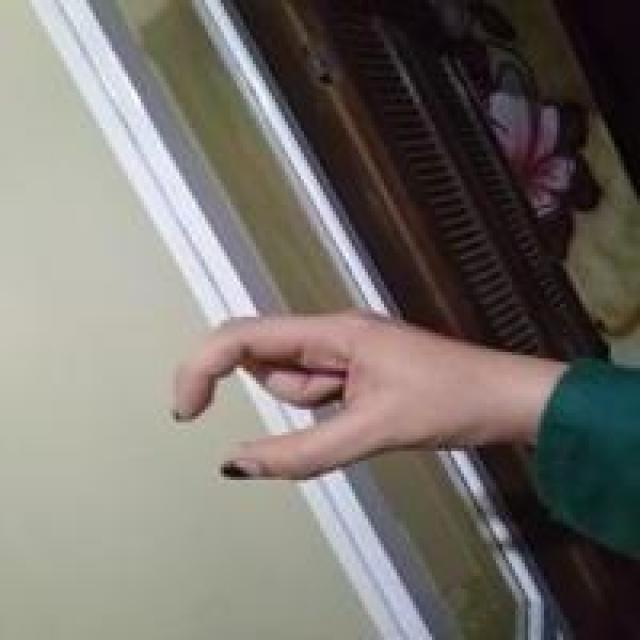Q: (165, 304, 530, 486)
